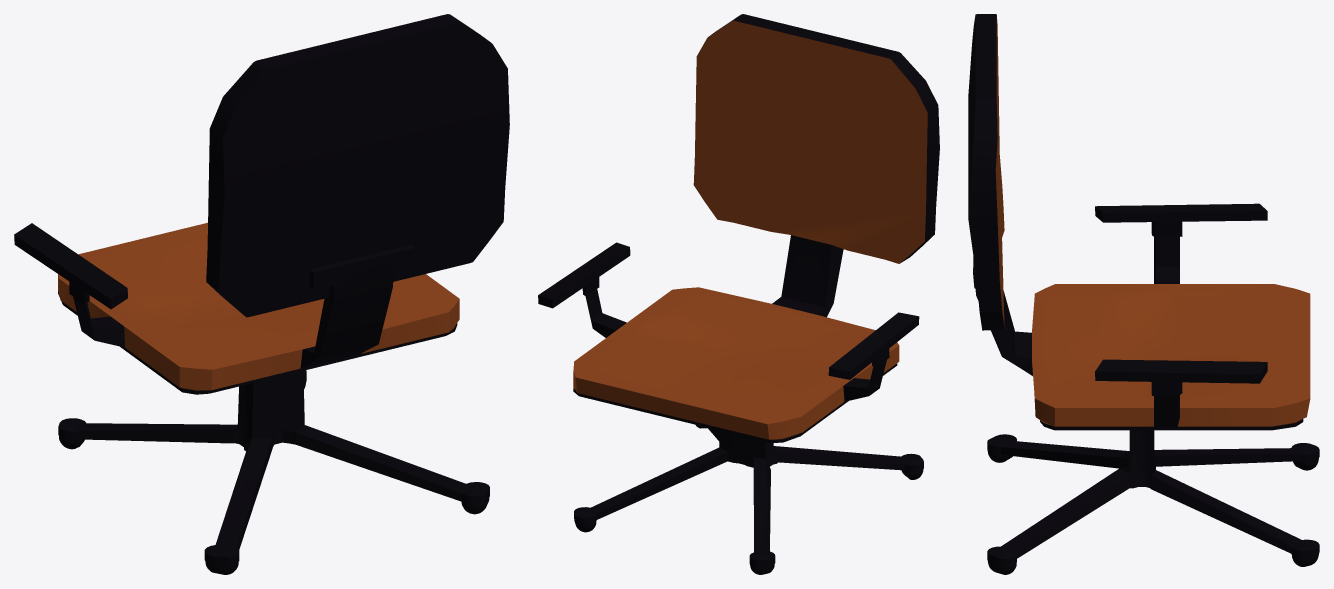
File: cadeira1.obj
3 views of the same model, side by side, from view 1: azimuth 30°, elevation 25°; view 2: azimuth 150°, elevation 25°; view 3: azimuth 270°, elevation 25° (orthographic). The views are drawn at different scales.
Visible parts, largest first — view 1: Cubo; view 2: Cubo; view 3: Cubo.
Boxes of the visible parts, left/top/right/bottom form: Cubo: left=14, top=14, right=509, bottom=574; Cubo: left=538, top=14, right=939, bottom=574; Cubo: left=968, top=14, right=1319, bottom=574.
Bounding box in the file's own units: 1.17 × 1.47 × 1.02.
